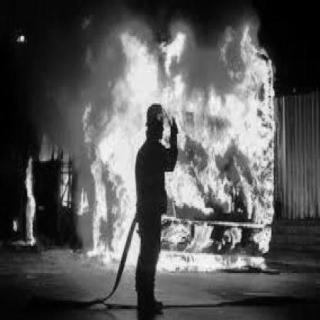Fire: (77, 24, 276, 270), (24, 156, 36, 244), (38, 135, 58, 159), (78, 190, 90, 212), (11, 217, 18, 231)
other: (16, 35, 24, 41)
